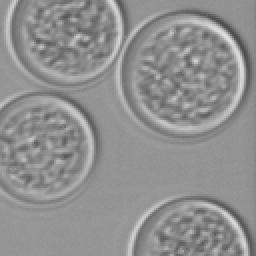picoshell: (114, 10, 248, 142), (0, 90, 98, 208), (4, 0, 126, 90), (124, 196, 253, 256)
